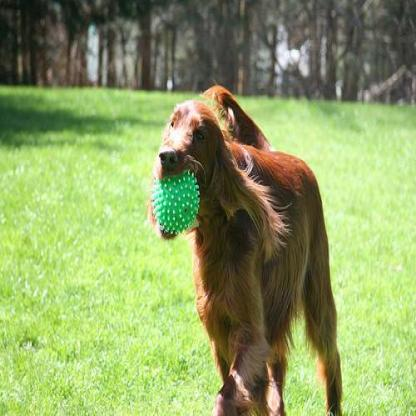Irish_setter: (142, 77, 344, 414)
